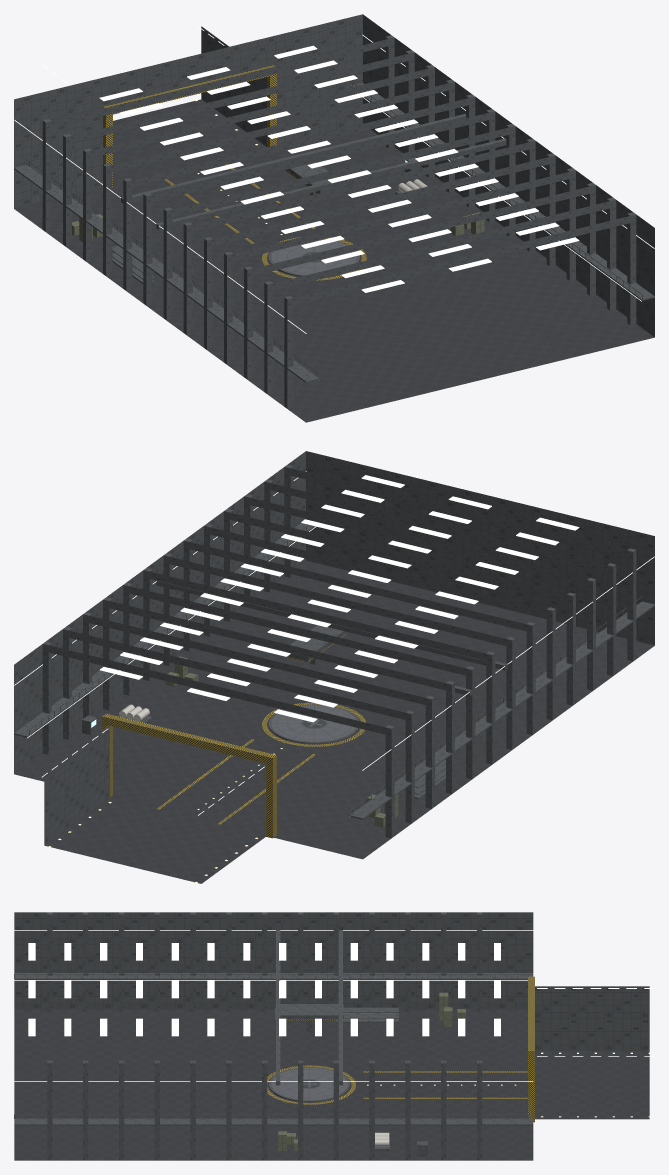
Rendered from hangar.glb.
3 renders of one model, top to bottom at view 1: azimuth 30°, elevation 25°; view 2: azimuth 150°, elevation 25°; view 3: azimuth 270°, elevation 25°, orthographic. The views are drawn at different scales.
Parts seen in each view (by area): view 1: bay, turntable; view 2: bay, turntable; view 3: bay, turntable.
Boxes of the visible parts, x1=… form: bay: x1=14, y1=14, x2=654, y2=422; turntable: x1=269, y1=238, x2=359, y2=276; bay: x1=14, y1=451, x2=654, y2=883; turntable: x1=269, y1=704, x2=358, y2=743; bay: x1=14, y1=912, x2=654, y2=1160; turntable: x1=269, y1=1067, x2=349, y2=1102.
Bounding box in the file's own units: 80 × 24 × 143.
Materials: 10 (5 with a texture image).
